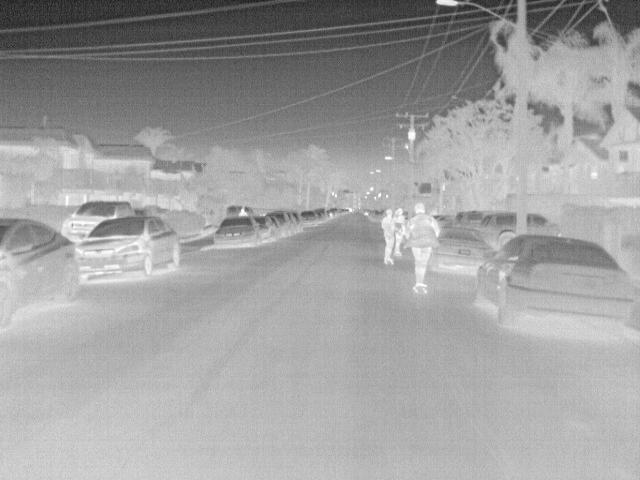car: (474, 234, 635, 340), (1, 215, 84, 326), (77, 216, 181, 278), (61, 200, 133, 244), (428, 230, 489, 279), (212, 216, 263, 246), (477, 213, 516, 247), (264, 210, 291, 238), (527, 210, 561, 232), (251, 215, 275, 242), (453, 210, 482, 228), (223, 206, 255, 220), (298, 210, 318, 227), (266, 218, 282, 238), (312, 210, 326, 224)
person: (403, 203, 441, 285), (377, 209, 397, 264), (390, 205, 409, 256), (236, 206, 249, 218)
